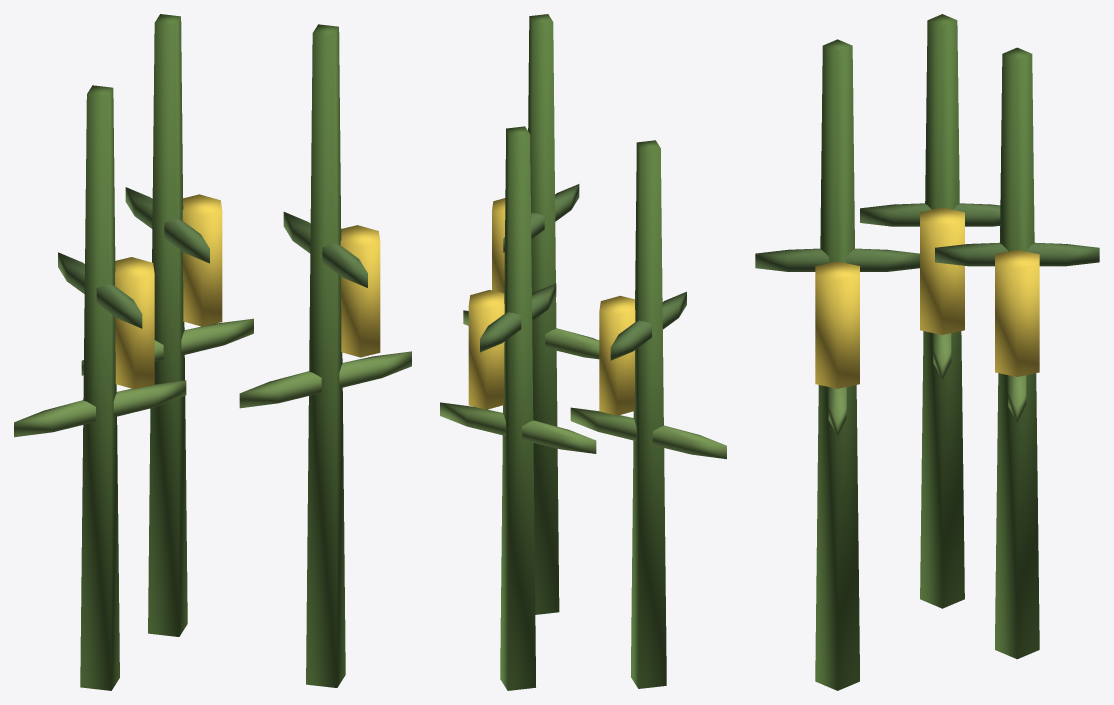
Rendered from corn_1.obj.
3 views of the same model, side by side, from view 1: azimuth 30°, elevation 25°; view 2: azimuth 150°, elevation 25°; view 3: azimuth 270°, elevation 25° (orthographic). The views are drawn at different scales.
Parts seen in each view (by area): view 1: corn_1_component_05, corn_1_component_01, corn_1_component_09, corn_1_component_12, corn_1_component_08, corn_1_component_04, corn_1_component_06, corn_1_component_02, corn_1_component_07, corn_1_component_11, corn_1_component_03, corn_1_component_10; view 2: corn_1_component_09, corn_1_component_01, corn_1_component_05, corn_1_component_12, corn_1_component_04, corn_1_component_10, corn_1_component_02, corn_1_component_03, corn_1_component_11, corn_1_component_06, corn_1_component_08, corn_1_component_07; view 3: corn_1_component_05, corn_1_component_09, corn_1_component_01, corn_1_component_08, corn_1_component_12, corn_1_component_04, corn_1_component_07, corn_1_component_11, corn_1_component_03, corn_1_component_06, corn_1_component_10, corn_1_component_02.
Part boxes in pixels (<box>): corn_1_component_05: <box>306,24,345,687</box>; corn_1_component_01: <box>80,85,119,690</box>; corn_1_component_09: <box>148,14,187,636</box>; corn_1_component_12: <box>182,194,222,326</box>; corn_1_component_08: <box>340,225,380,357</box>; corn_1_component_04: <box>115,257,154,389</box>; corn_1_component_06: <box>239,351,411,408</box>; corn_1_component_02: <box>14,380,186,437</box>; corn_1_component_07: <box>283,212,367,287</box>; corn_1_component_11: <box>125,187,209,263</box>; corn_1_component_03: <box>58,252,142,328</box>; corn_1_component_10: <box>81,318,253,375</box>; corn_1_component_09: <box>500,126,535,690</box>; corn_1_component_01: <box>631,140,666,688</box>; corn_1_component_05: <box>528,14,559,614</box>; corn_1_component_12: <box>468,290,504,409</box>; corn_1_component_04: <box>599,295,635,415</box>; corn_1_component_10: <box>440,402,596,453</box>; corn_1_component_02: <box>570,407,726,459</box>; corn_1_component_03: <box>610,291,686,360</box>; corn_1_component_11: <box>480,283,556,352</box>; corn_1_component_06: <box>463,310,599,359</box>; corn_1_component_08: <box>492,198,505,293</box>; corn_1_component_07: <box>503,184,579,252</box>; corn_1_component_05: <box>815,39,859,690</box>; corn_1_component_09: <box>995,47,1039,659</box>; corn_1_component_01: <box>920,14,964,608</box>; corn_1_component_08: <box>815,261,859,388</box>; corn_1_component_12: <box>995,250,1039,376</box>; corn_1_component_04: <box>920,208,964,334</box>; corn_1_component_07: <box>755,248,919,271</box>; corn_1_component_11: <box>935,242,1099,266</box>; corn_1_component_03: <box>860,203,1000,226</box>; corn_1_component_06: <box>828,387,846,435</box>; corn_1_component_10: <box>1008,375,1026,422</box>; corn_1_component_02: <box>933,333,951,379</box>.
Bounding box in the file's own units: 0.52 × 0.9376 × 0.46.
